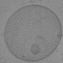small: (31, 44, 40, 54)
